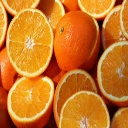orange: (5, 6, 54, 80)
